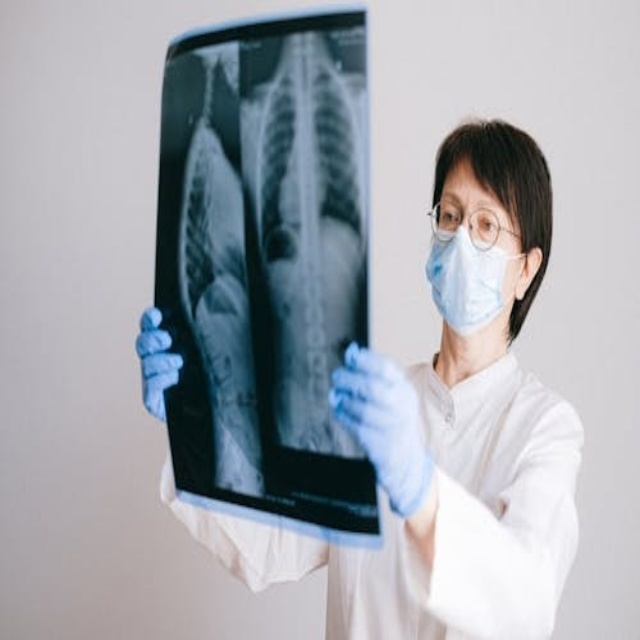Gafas: (430, 200, 526, 254)
Guantes: (327, 340, 436, 520), (137, 307, 184, 424)
Mascara: (427, 214, 520, 334)
